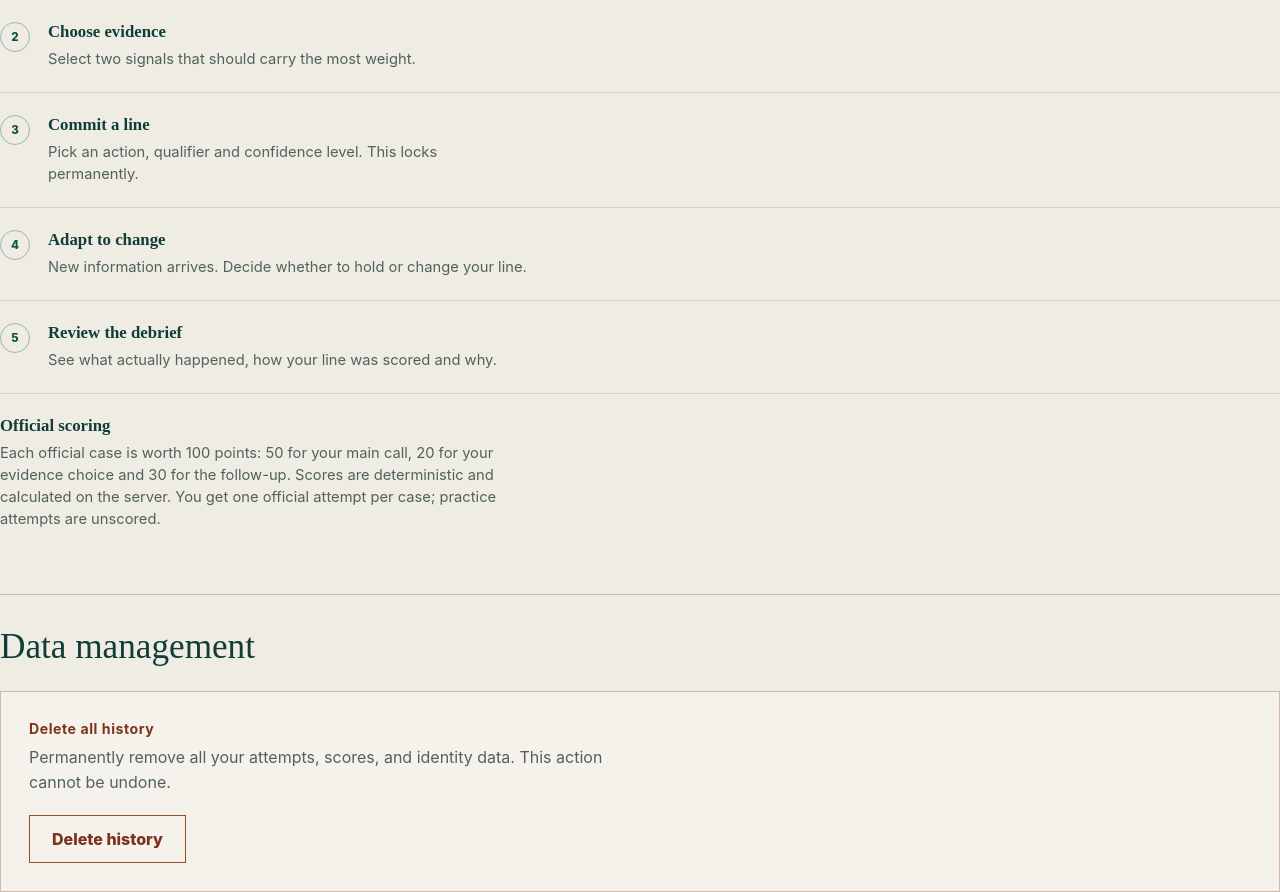
SettingsPage › shows success after confirmed deletion
(page scrolled)
Click the button "Delete history" at (108, 839), box [29, 815, 186, 863]
(page scrolled)
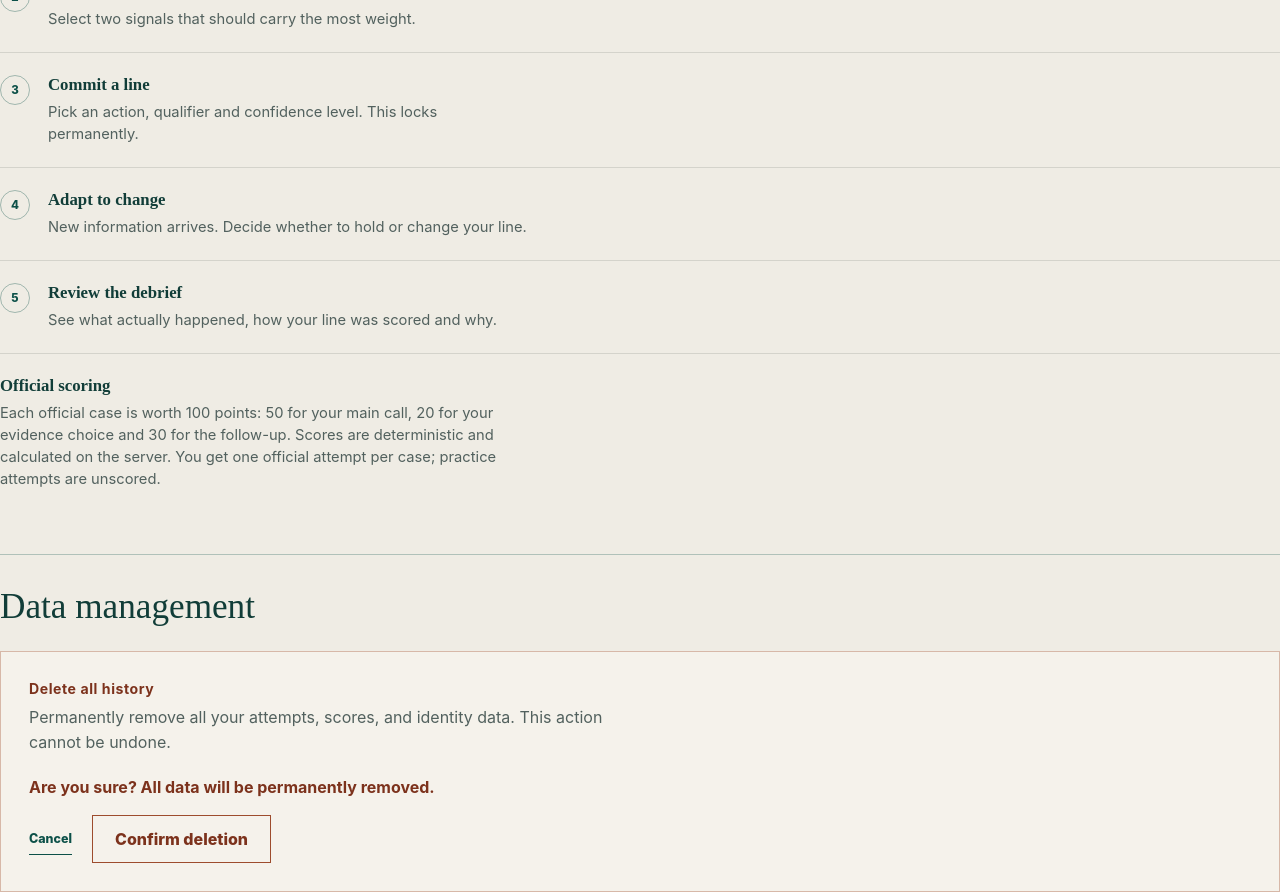
Click the button "Confirm deletion" at (182, 839), box [92, 815, 271, 863]
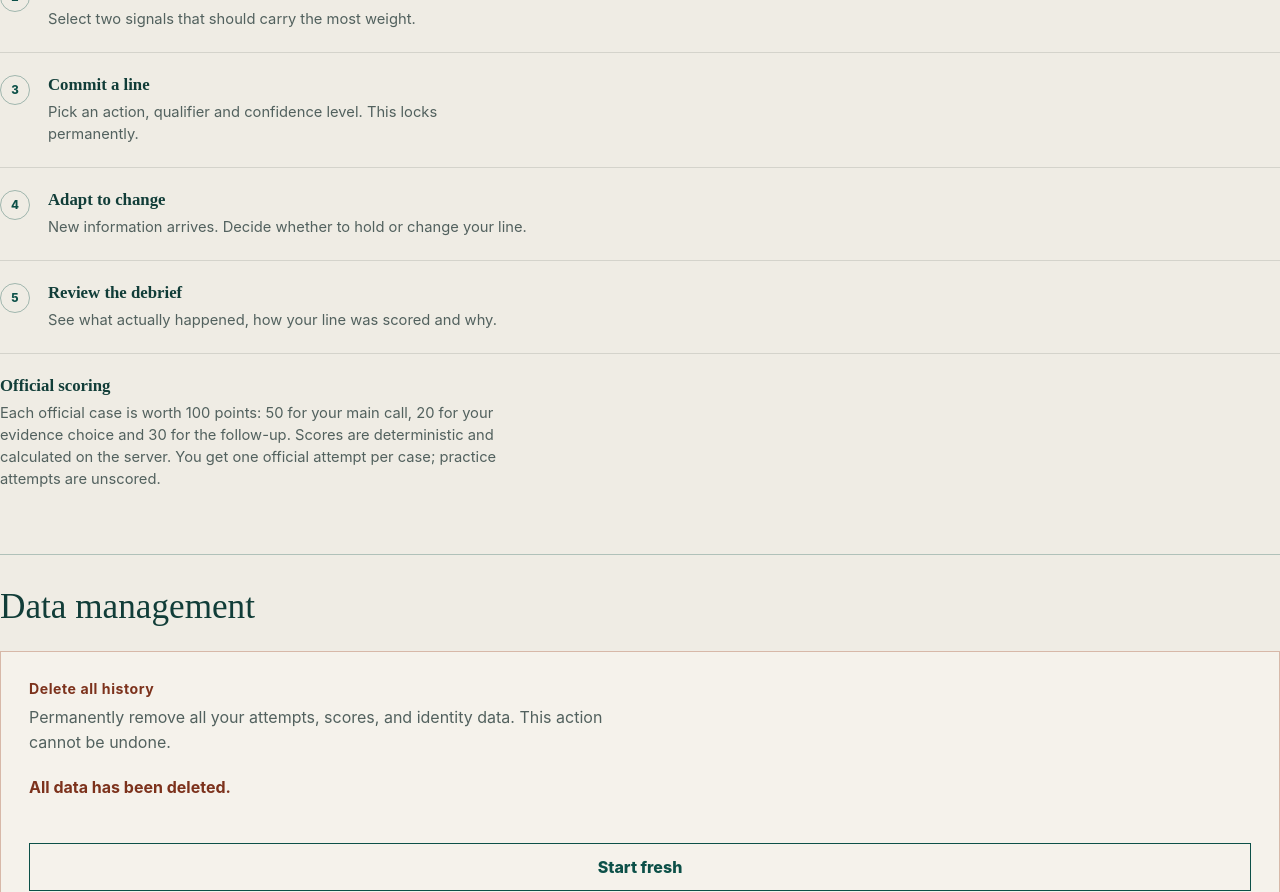
Expected: the text "All data has been deleted." is shown, [29, 777, 231, 797]
Expected: the button "Start fresh" is shown, [29, 843, 1251, 891]
